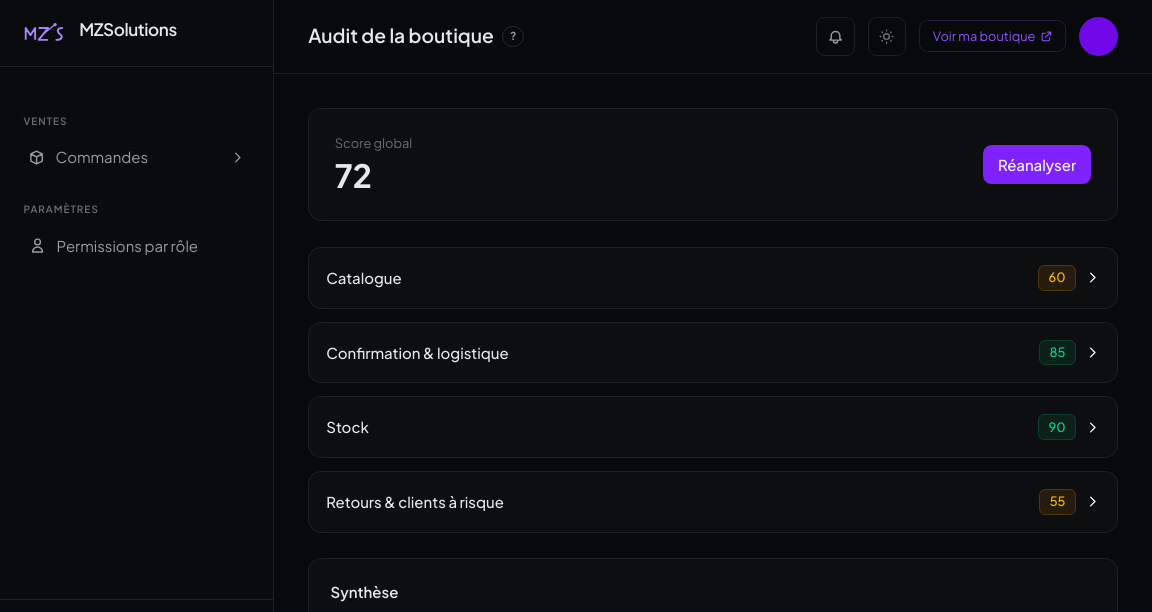
Scenario: StoreAuditPage › déplie une section de dimension et affiche la liste concrète des produits concernés
The image size is (1152, 612).
Expected: the text "72" is shown, [335,155,372,195]
Click the text "Catalogue" at (364, 278), box [326,267,402,288]
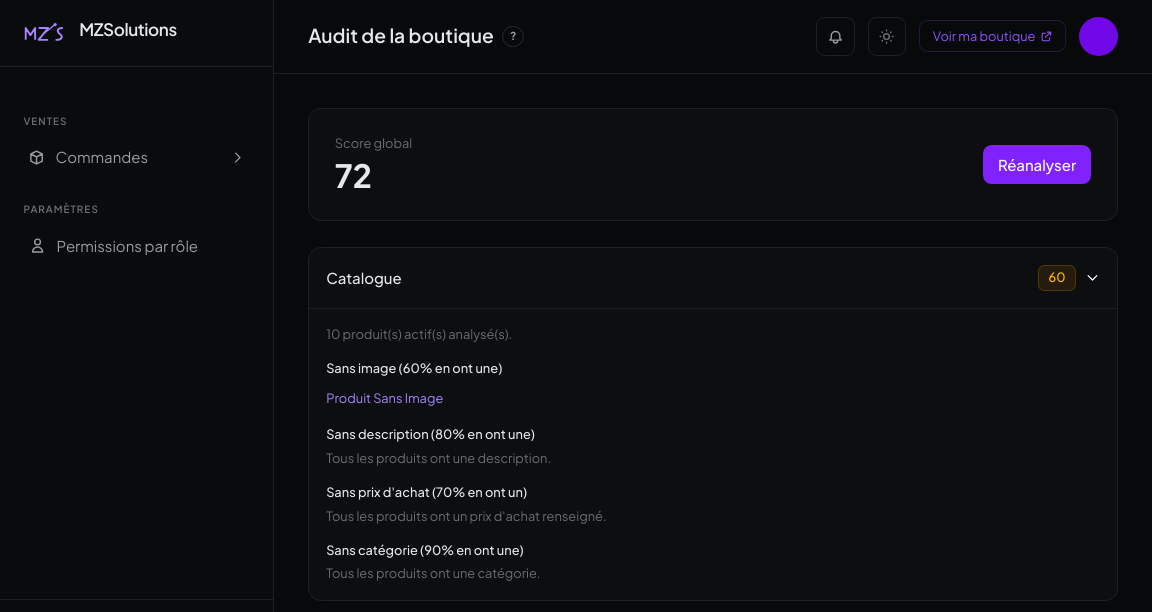
Expected: the link "Produit Sans Image" is shown, [326,390,443,406]
